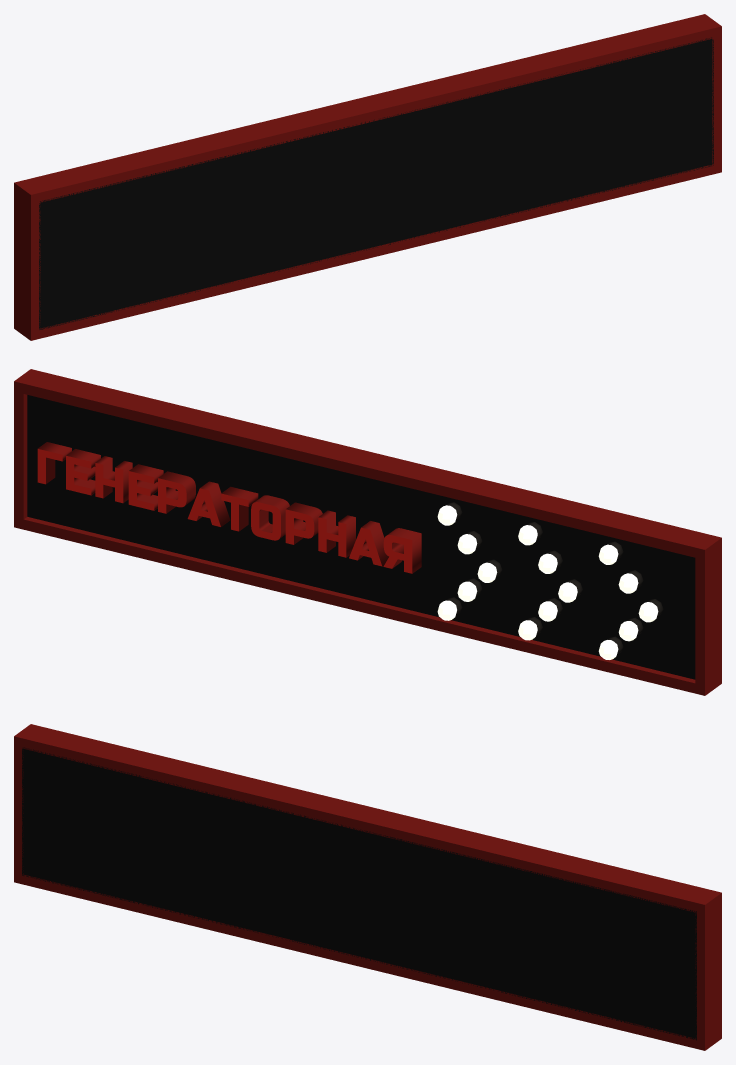
Rendered from arrow_generator_right.glb.
The picture shows the model from 3 angles, top to bottom: view 1: azimuth 30°, elevation 25°; view 2: azimuth 150°, elevation 25°; view 3: azimuth 330°, elevation 25°; orthographic projection.
Visible parts, largest first — view 1: Sign; view 2: Sign, BulbsA, BulbsB; view 3: Sign.
Part boxes in pixels (x1,y1,x2,y2): Sign: (14, 14, 721, 340); Sign: (14, 369, 721, 695); BulbsA: (437, 505, 658, 659); BulbsB: (518, 525, 577, 640); Sign: (14, 724, 721, 1050).
Size of the model in its own units: 4.26 by 0.86 by 0.268.
2 materials, 1 textured.
